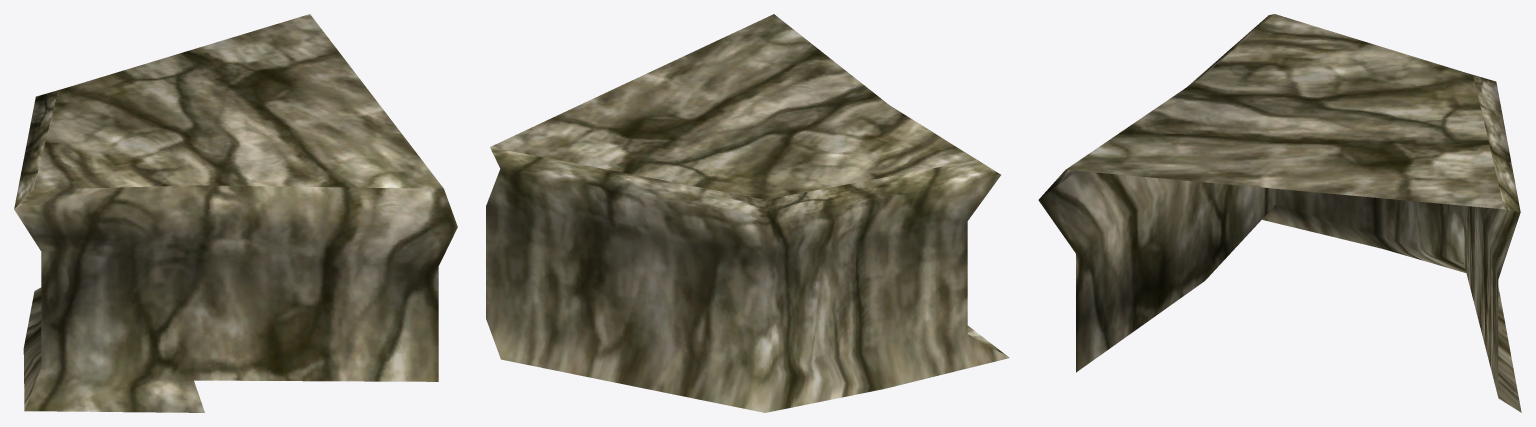
File: CB_NEWPLAYSURFACE_CB_PLAYSURFACE142.fbx
The picture shows the model from 3 angles, left to right: view 1: azimuth 30°, elevation 25°; view 2: azimuth 150°, elevation 25°; view 3: azimuth 270°, elevation 25°; orthographic projection. The views are drawn at different scales.
Visible parts, largest first — view 1: CB_NEWPLAYSURFACE_CB_PLAYSURFACE142; view 2: CB_NEWPLAYSURFACE_CB_PLAYSURFACE142; view 3: CB_NEWPLAYSURFACE_CB_PLAYSURFACE142.
Part boxes in pixels (left/top/right/bottom): CB_NEWPLAYSURFACE_CB_PLAYSURFACE142: left=14, top=14, right=457, bottom=412; CB_NEWPLAYSURFACE_CB_PLAYSURFACE142: left=486, top=14, right=1009, bottom=412; CB_NEWPLAYSURFACE_CB_PLAYSURFACE142: left=1038, top=14, right=1521, bottom=412.
Bounding box in the file's own units: 75986 × 36013 × 73888.
Materials: 2 (2 with a texture image).
